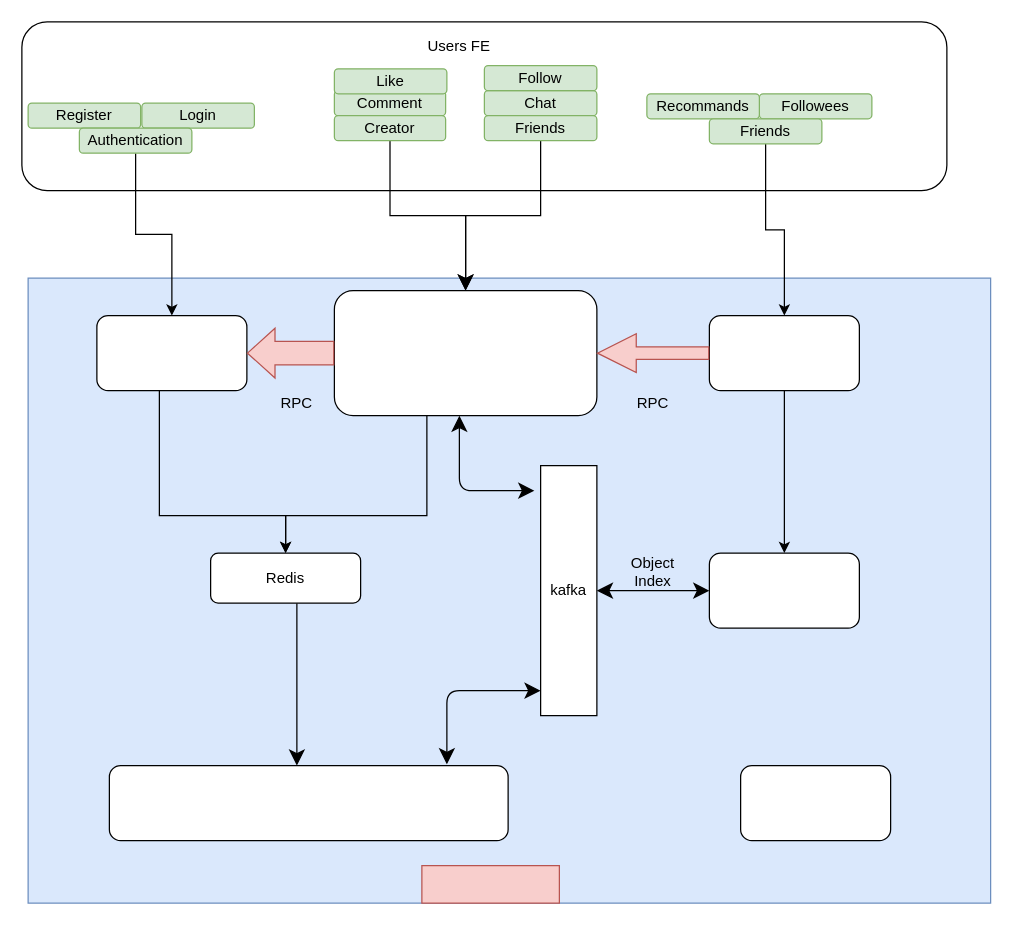
Image size: 1013x925. Some labels were removed from this diagram. Each missing label, with the box of its shape:
Big Data Service(?): (739, 764, 891, 841)
Kubernets Cluster: (421, 864, 559, 903)
MySQL: (108, 764, 508, 841)
OBS: (708, 552, 859, 628)
Operations Service: (333, 289, 597, 416)
Stream Service: (708, 314, 859, 391)
User Service: (96, 314, 247, 391)
